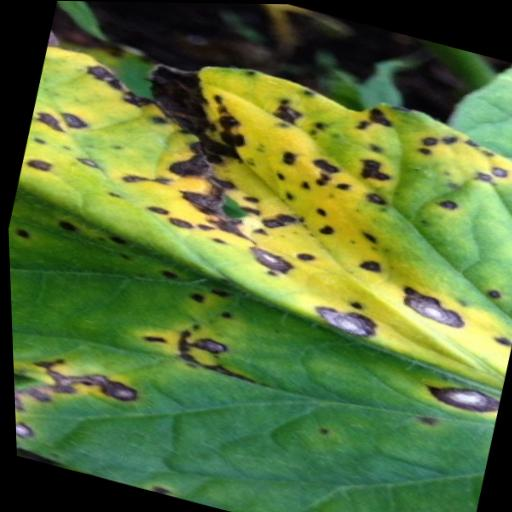Septoria: (0, 6, 512, 512)
